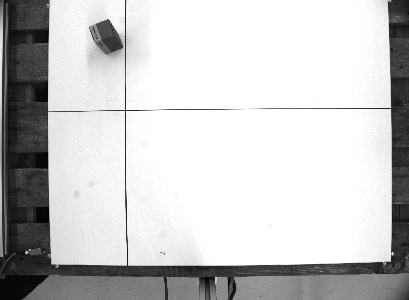b3: (86, 17, 125, 56)
